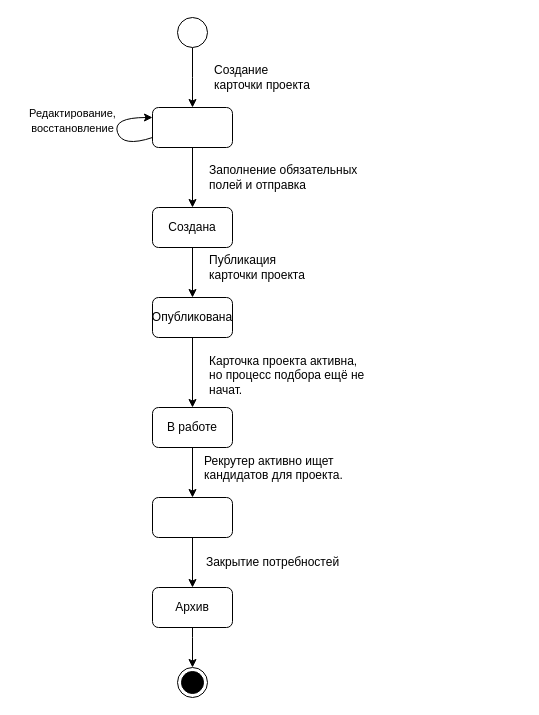
This 539x715 diagram has some shape labels left out. Each missing label, with the box of its shape:
Завершено: (152, 496, 232, 538)
Черновик: (152, 106, 232, 148)
